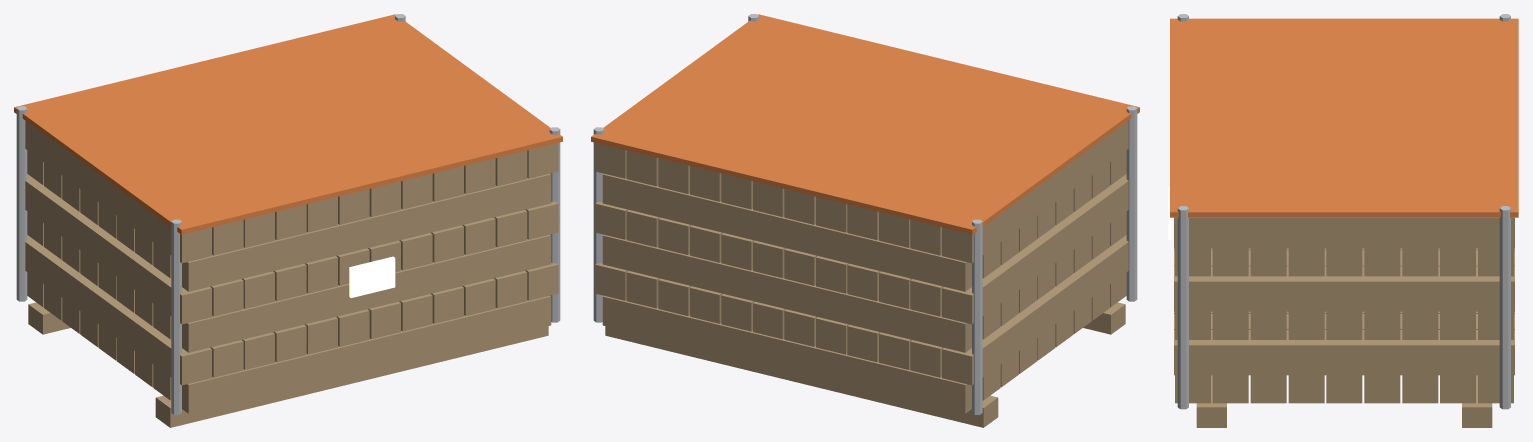
The model's file is underground-mine-and-shaft-works-timber-stack-96f1ed0e.glb.
3 views of the same model, side by side, from view 1: azimuth 30°, elevation 25°; view 2: azimuth 150°, elevation 25°; view 3: azimuth 270°, elevation 25° (orthographic). The views are drawn at different scales.
Parts seen in each view (by area): view 1: timber-stack; view 2: timber-stack; view 3: timber-stack.
Part boxes in pixels (x1,y1,x2,y2): timber-stack: (14, 14, 562, 427); timber-stack: (591, 14, 1139, 427); timber-stack: (1168, 14, 1518, 427).
Size of the model in its own units: 2.45 by 1.28 by 1.85.
